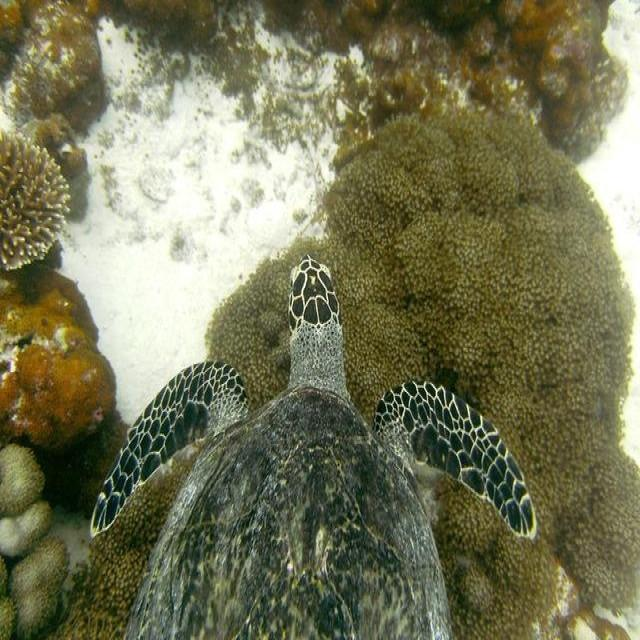aquatic plants: (210, 101, 639, 639), (0, 449, 70, 639), (0, 128, 70, 268)
fish: (90, 254, 538, 639)
reefs: (1, 0, 625, 155), (1, 237, 112, 451)
